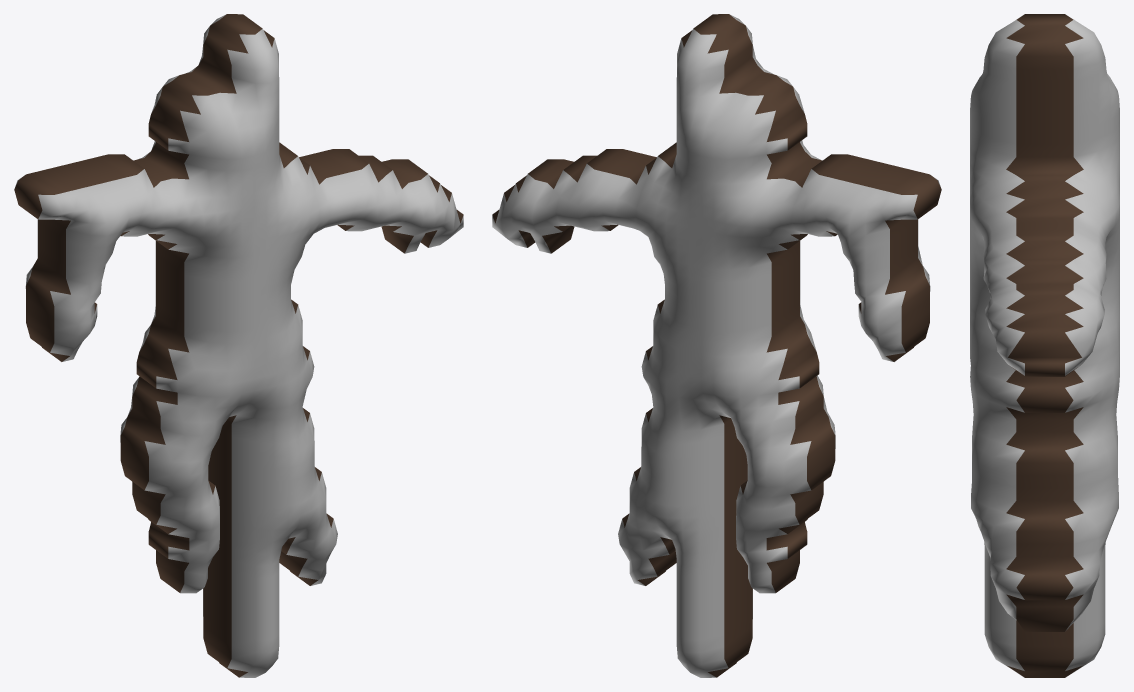
File: scarecrow_stitched.glb
3 renders of one model, left to right at view 1: azimuth 30°, elevation 25°; view 2: azimuth 150°, elevation 25°; view 3: azimuth 270°, elevation 25°, orthographic.
Parts seen in each view (by area): view 1: scarecrow_stitched; view 2: scarecrow_stitched; view 3: scarecrow_stitched.
Boxes of the visible parts, x1,y1,x2,y2 form: scarecrow_stitched: (14, 14, 463, 677); scarecrow_stitched: (492, 14, 941, 677); scarecrow_stitched: (970, 14, 1119, 677).
Size of the model in its own units: 0.9692 by 1.4 by 0.2913.
